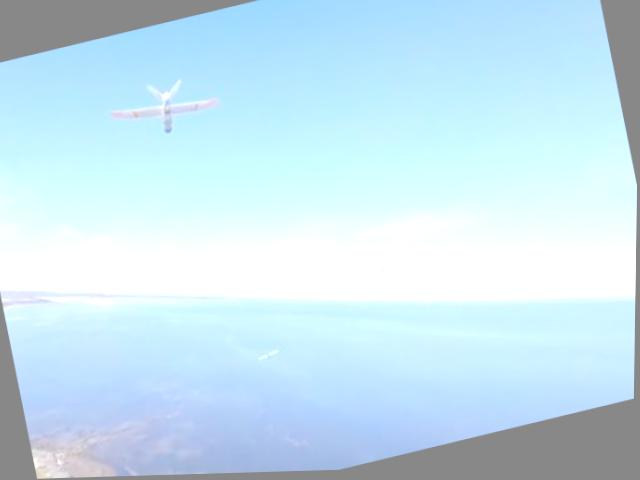uav: (103, 69, 222, 148)
